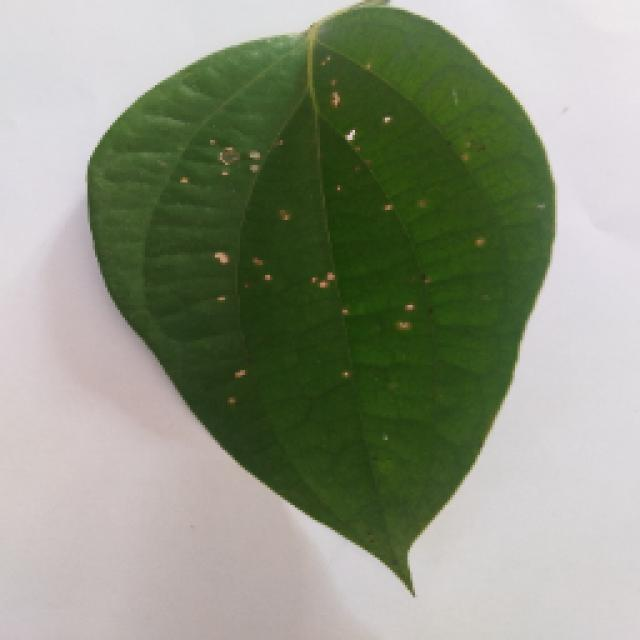pollu-disease: (57, 15, 575, 603)
